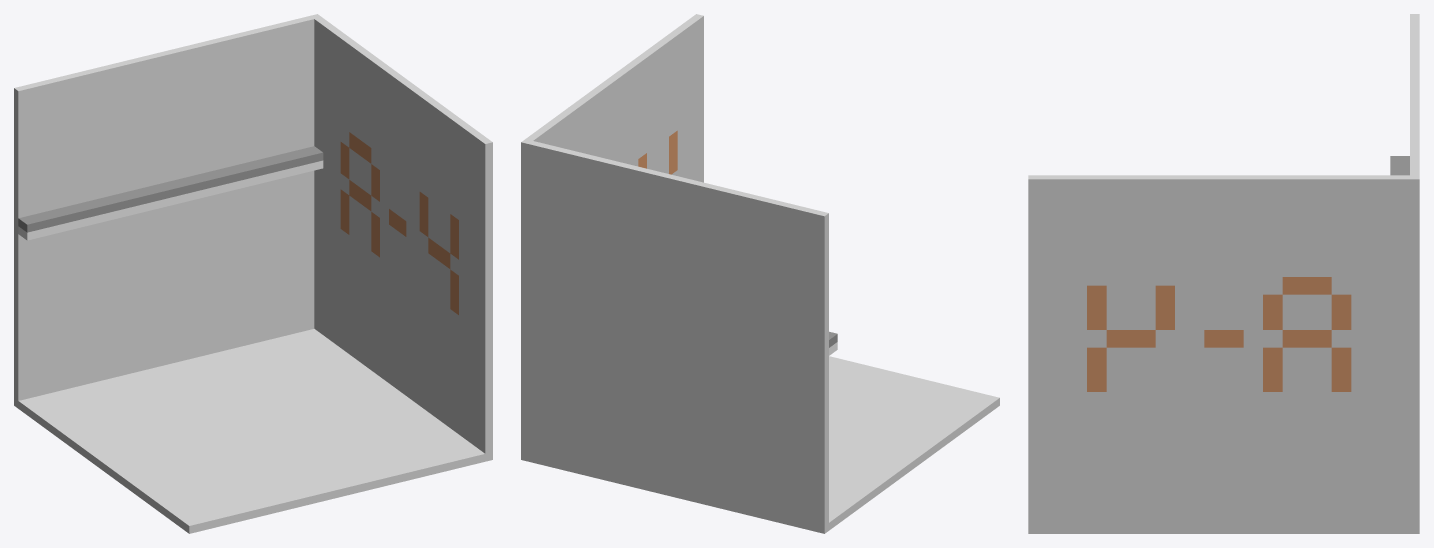
The model's file is Wall_Corner(Ver_1_Number 4).obj.
The picture shows the model from 3 angles, left to right: view 1: azimuth 30°, elevation 25°; view 2: azimuth 150°, elevation 25°; view 3: azimuth 270°, elevation 25°; orthographic projection. The views are drawn at different scales.
Size of the model in its own units: 4 by 4 by 4.
Materials: 1 (1 with a texture image).
